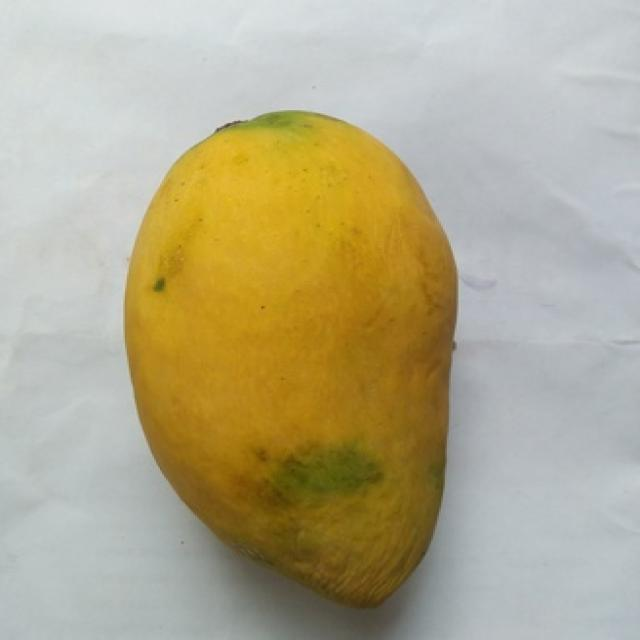Mango: (125, 112, 455, 603)
